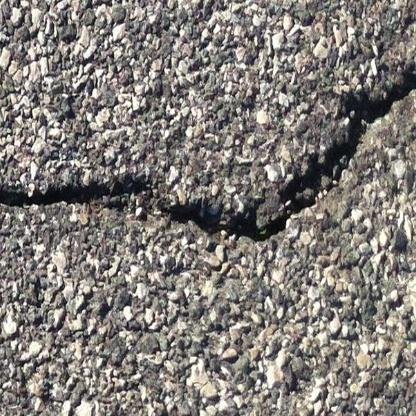Cracks: (0, 66, 416, 245)
